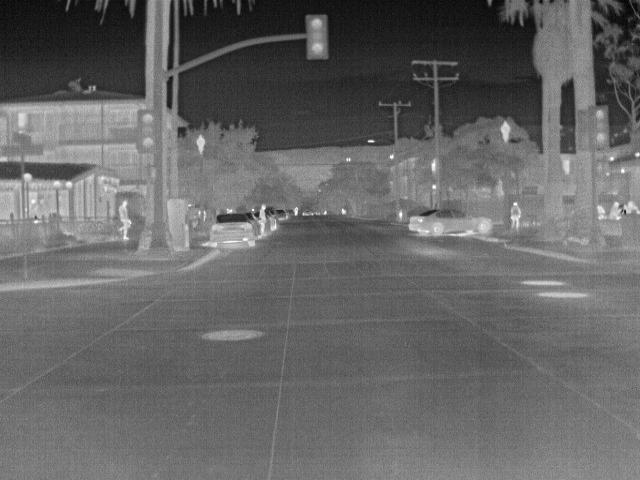car: (409, 206, 497, 240), (207, 212, 255, 249), (244, 214, 262, 239), (273, 209, 289, 220)
person: (113, 199, 131, 241), (508, 200, 523, 232), (257, 204, 269, 237)
